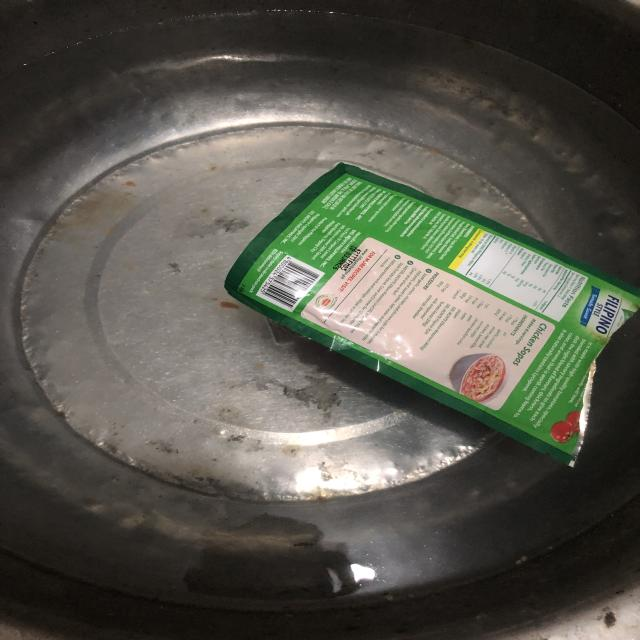Plastic Pouch: (225, 163, 640, 464)
